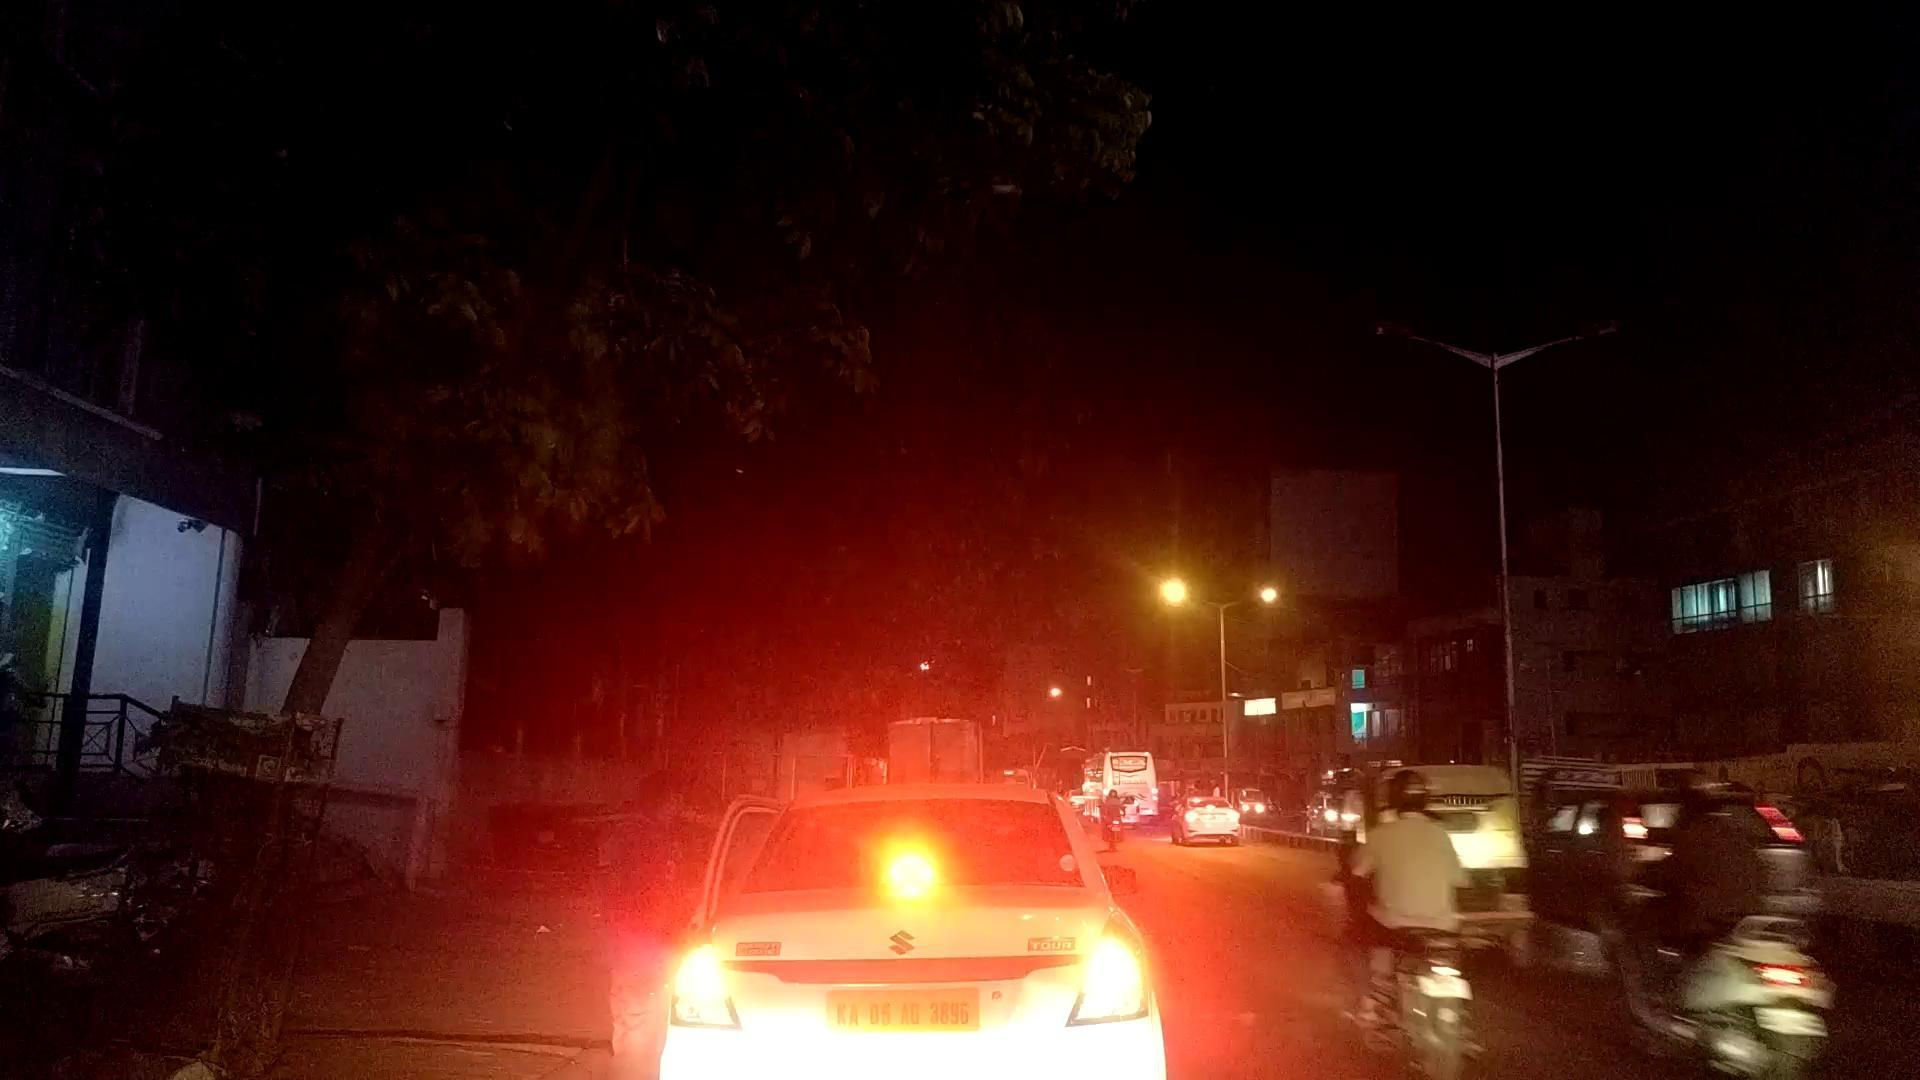on: (880, 452, 1598, 779)
